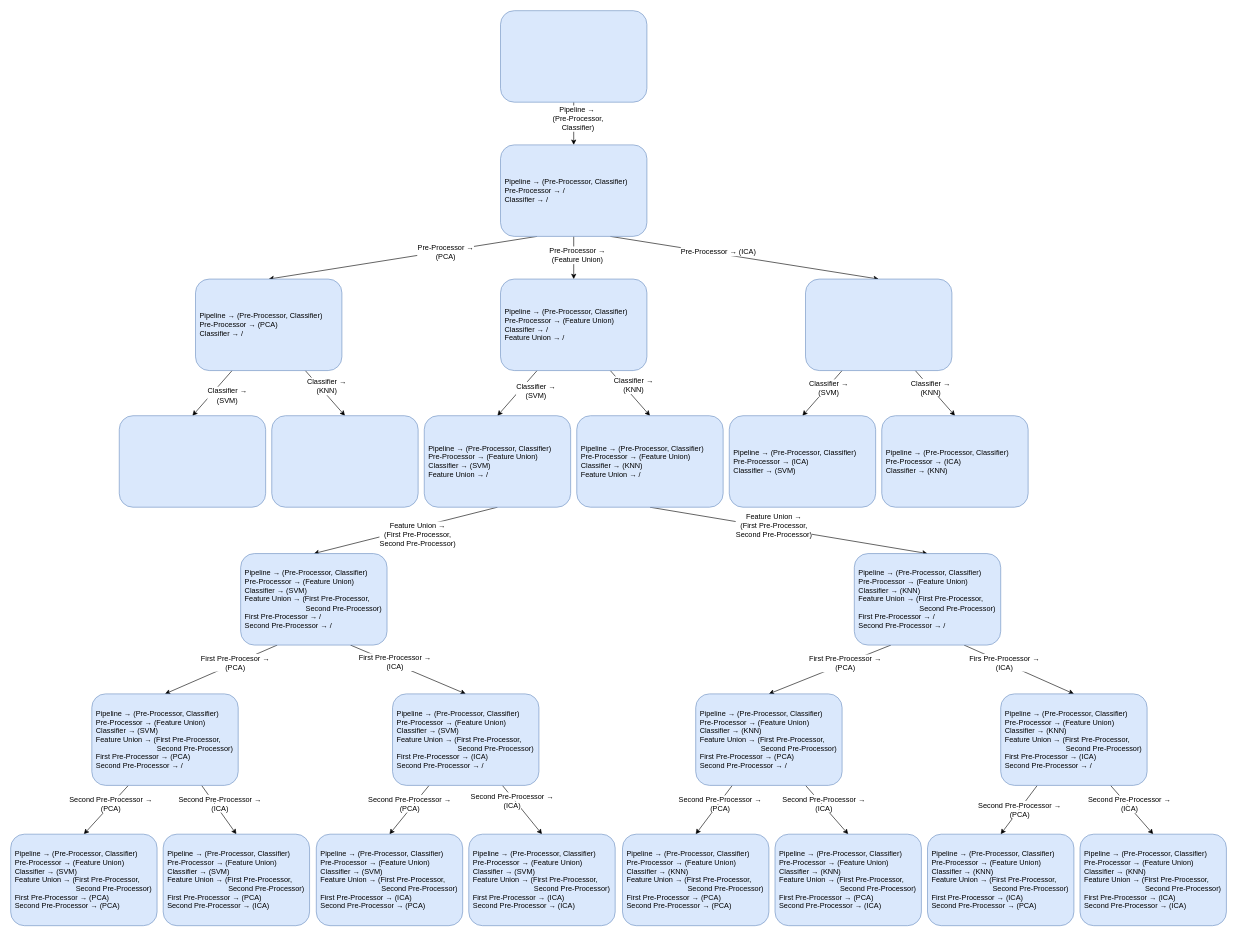
This 1237x936 diagram has some shape labels left out. Each missing label, with the centre of its shape:
Pipeline → (Pre-Processor, Classifier) Pre-Processor → (ICA) Classifier → /: point (878, 324)
Pipeline → (Pre-Processor, Classifier) Pre-Processor → (PCA) Classifier → (KNN): point (344, 461)
Pipeline → (Pre-Processor, Classifier) Pre-Processor → (PCA) Classifier → (SVM): point (192, 461)
Pipeline → /: point (573, 56)
